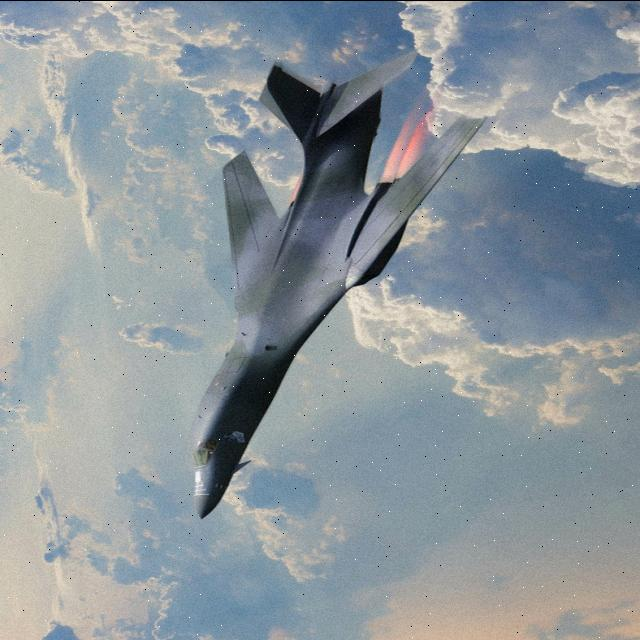B1: (161, 42, 530, 526)
